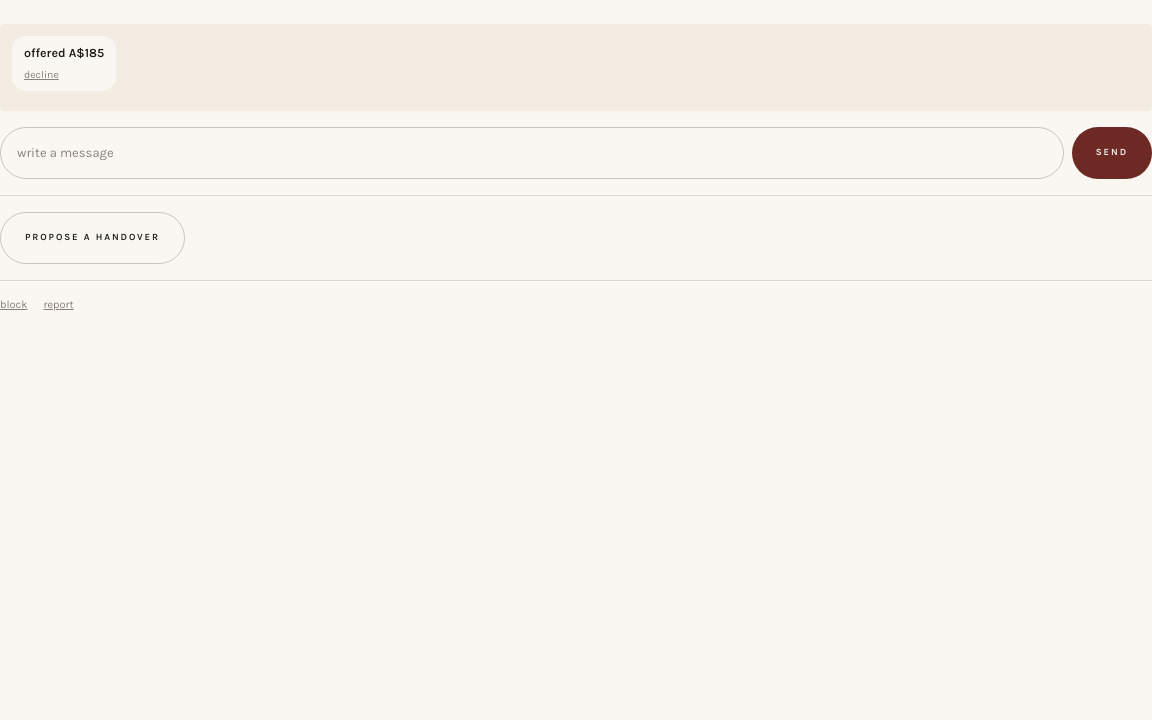
ThreadView block and report › updates the offer's status in place after a successful decline, without a reload
Click the button "decline". click: coordinates (41, 75)
box: top-left (24, 67), bottom-right (59, 83)
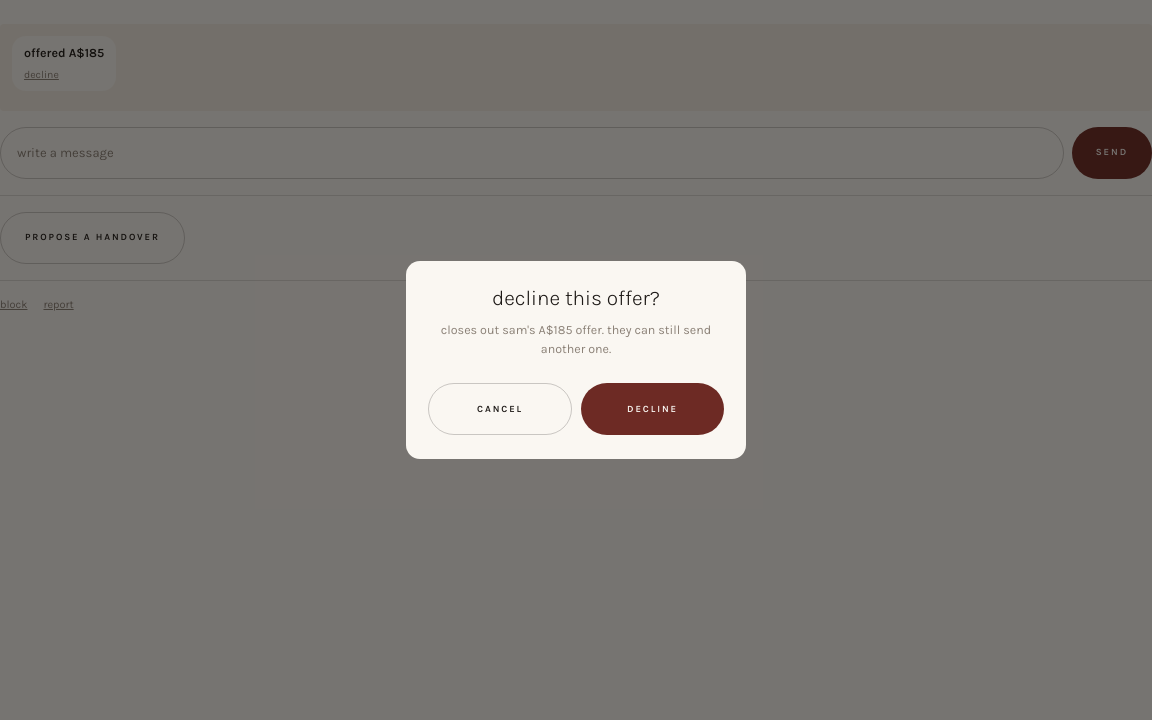
Click the button "decline". click: coordinates (653, 409)
box: top-left (581, 383), bottom-right (724, 435)
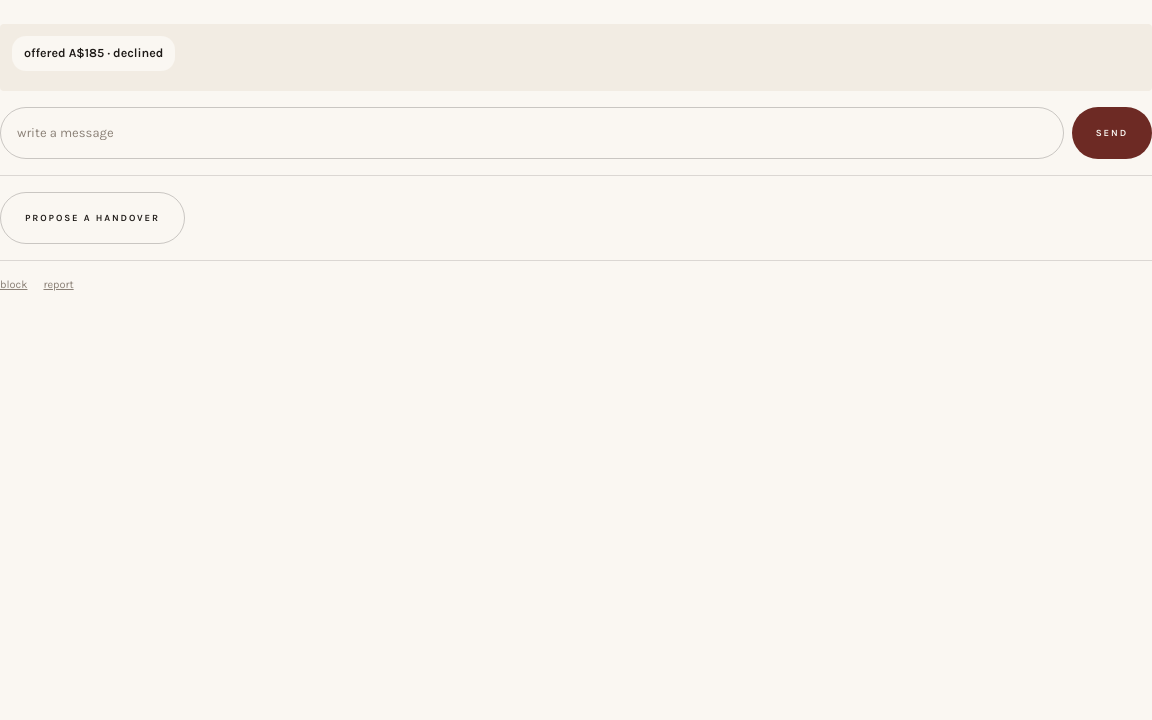
Check: the text "offered A$185 · declined" is shown, box top-left (24, 46), bottom-right (163, 60)
